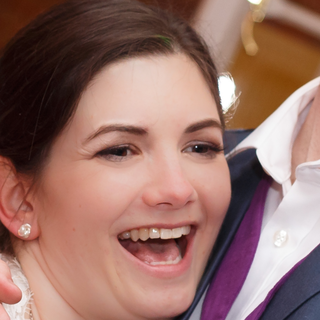eye: (90, 140, 144, 164), (180, 136, 223, 162)
